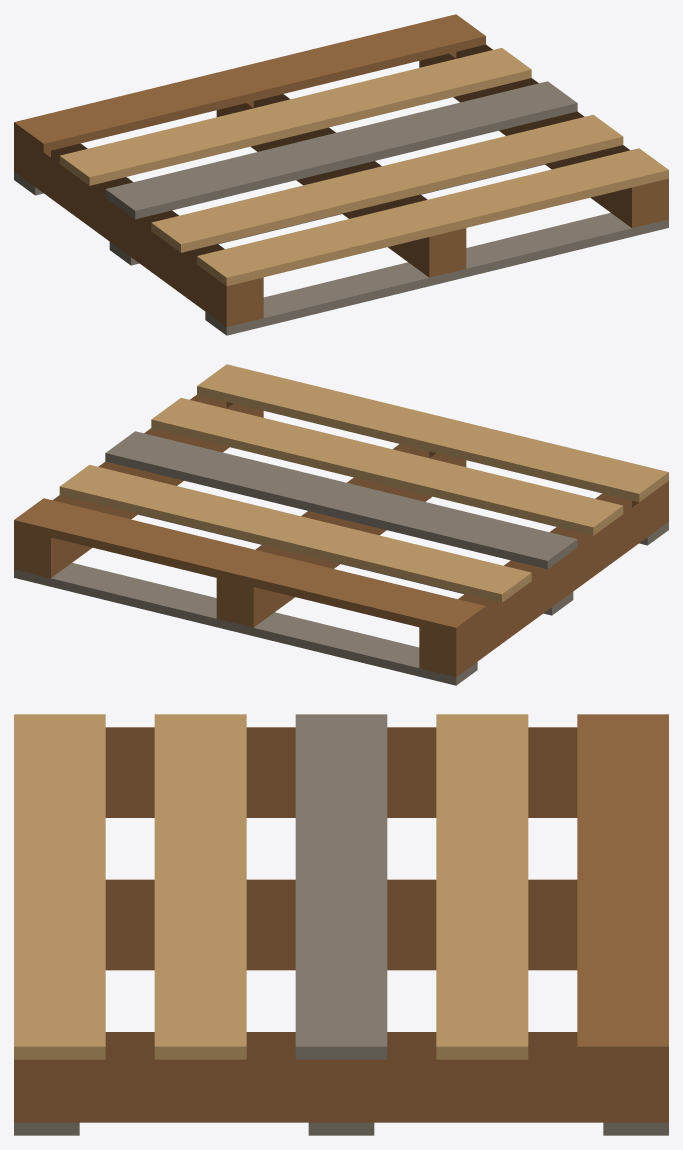
File: prop_pallet.glb
The picture shows the model from 3 angles, top to bottom: view 1: azimuth 30°, elevation 25°; view 2: azimuth 150°, elevation 25°; view 3: azimuth 270°, elevation 25°; orthographic projection. The views are drawn at different scales.
Parts seen in each view (by area): view 1: prop_pallet__mesh; view 2: prop_pallet__mesh; view 3: prop_pallet__mesh.
Part boxes in pixels (x1,y1,x2,y2): prop_pallet__mesh: [14, 14, 668, 335]; prop_pallet__mesh: [14, 364, 668, 685]; prop_pallet__mesh: [14, 714, 668, 1135].
Size of the model in its own units: 1.2 by 0.15 by 1.
1 material, 1 textured.
